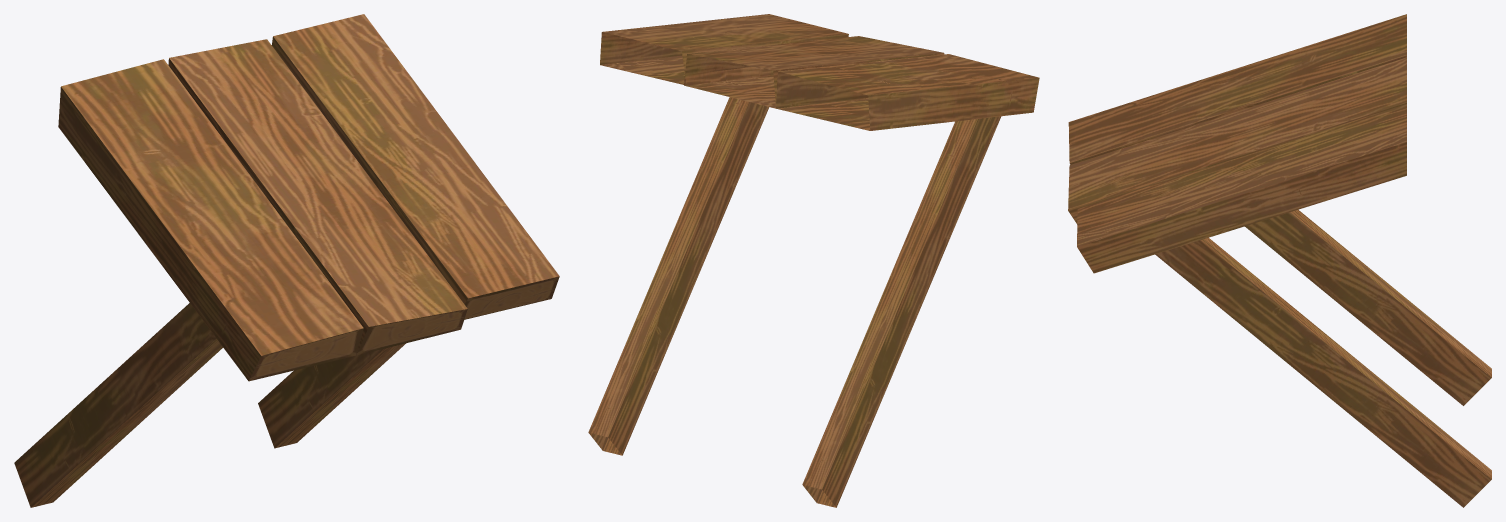
The model's file is Window_Roof_Thin.gltf.
The picture shows the model from 3 angles, left to right: view 1: azimuth 30°, elevation 25°; view 2: azimuth 150°, elevation 25°; view 3: azimuth 270°, elevation 25°; orthographic projection. The views are drawn at different scales.
Visible parts, largest first — view 1: Window_Roof_Thin; view 2: Window_Roof_Thin; view 3: Window_Roof_Thin.
Part boxes in pixels (x1,y1,x2,y2): Window_Roof_Thin: [14, 14, 559, 507]; Window_Roof_Thin: [588, 14, 1039, 507]; Window_Roof_Thin: [1068, 14, 1491, 507].
Bounding box in the file's own units: 0.8518 × 1.18 × 1.18.
Materials: 2 (2 with a texture image).
